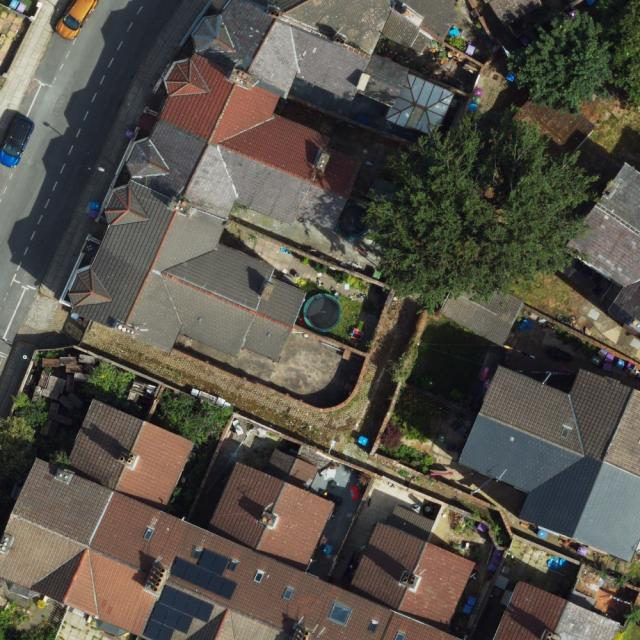roof: (68, 0, 459, 364), (2, 399, 479, 640), (459, 362, 640, 561), (563, 158, 640, 330)
skylight: (388, 70, 456, 139), (325, 597, 357, 628), (280, 583, 298, 603), (252, 566, 269, 584), (140, 525, 156, 543), (366, 616, 380, 635), (559, 422, 573, 441), (227, 556, 240, 573), (392, 628, 408, 639), (191, 546, 203, 560)
solar: (146, 583, 216, 639), (169, 549, 237, 598)
